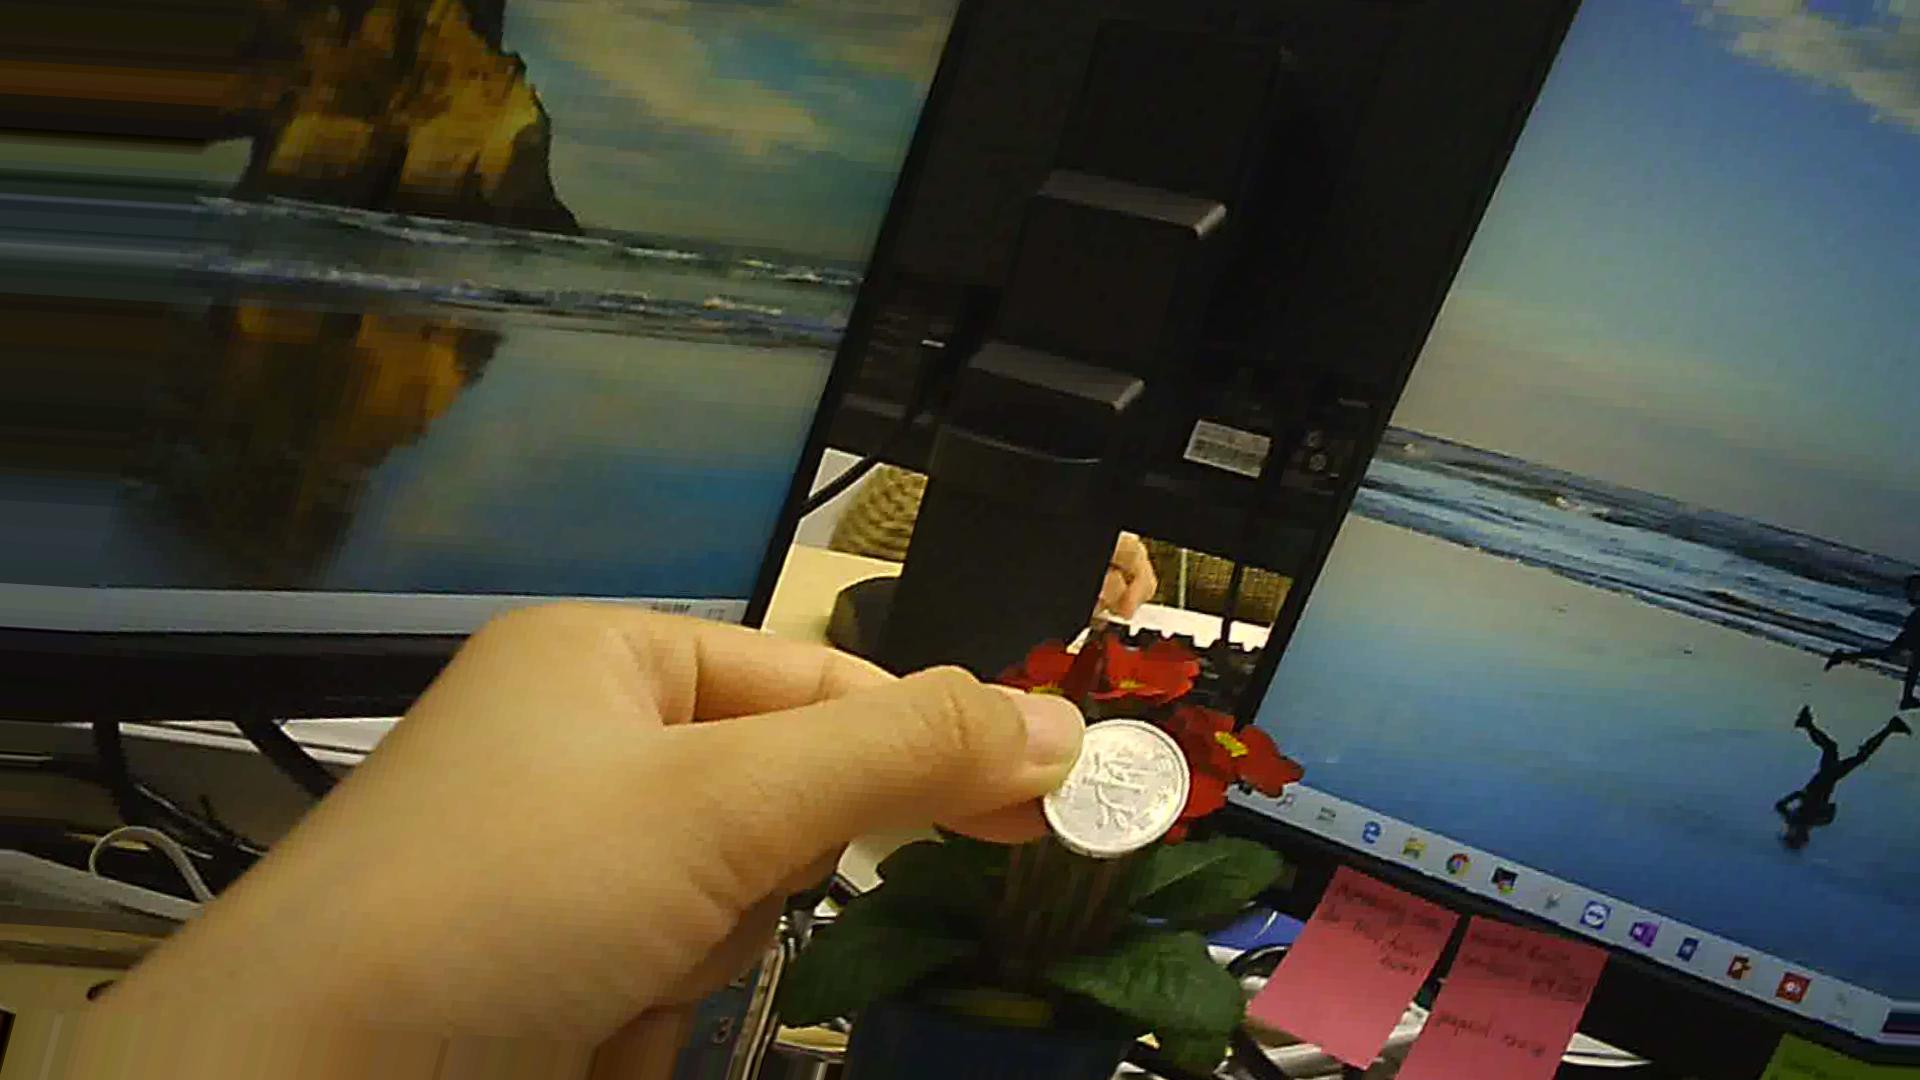1 Yen: (1033, 707, 1193, 848)
